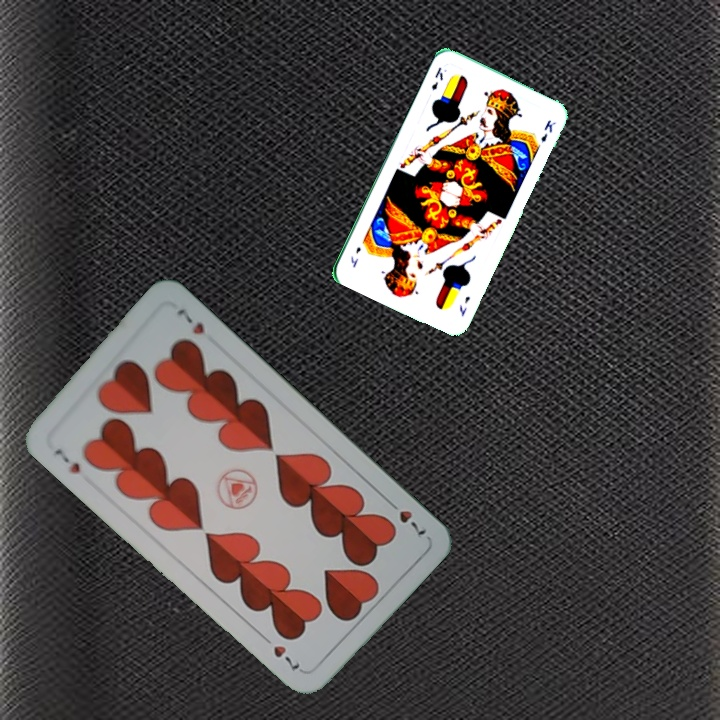EK: (427, 63, 445, 93), (455, 292, 473, 319)
H7: (382, 495, 430, 540), (50, 444, 83, 477)
